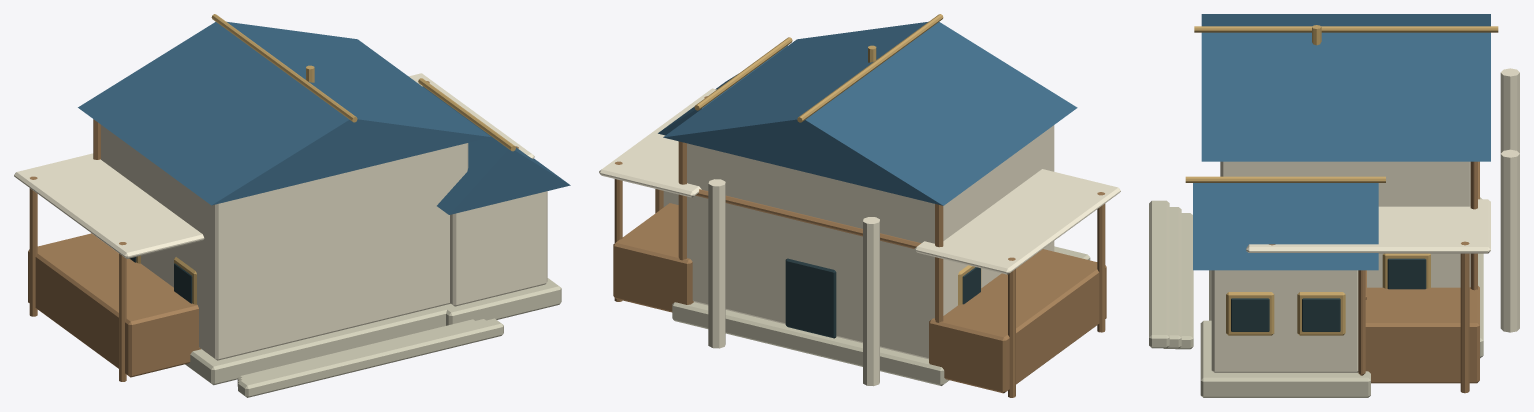
The model's file is level_24.glb.
The picture shows the model from 3 angles, left to right: view 1: azimuth 30°, elevation 25°; view 2: azimuth 150°, elevation 25°; view 3: azimuth 270°, elevation 25°; orthographic projection. The views are drawn at different scales.
Parts seen in each view (by area): view 1: market — level 24; view 2: market — level 24; view 3: market — level 24.
Boxes of the visible parts, x1,y1,x2,y2 form: market — level 24: [14, 14, 570, 397]; market — level 24: [599, 14, 1120, 397]; market — level 24: [1149, 14, 1519, 397].
Size of the model in its own units: 7.08 by 3.97 by 5.
